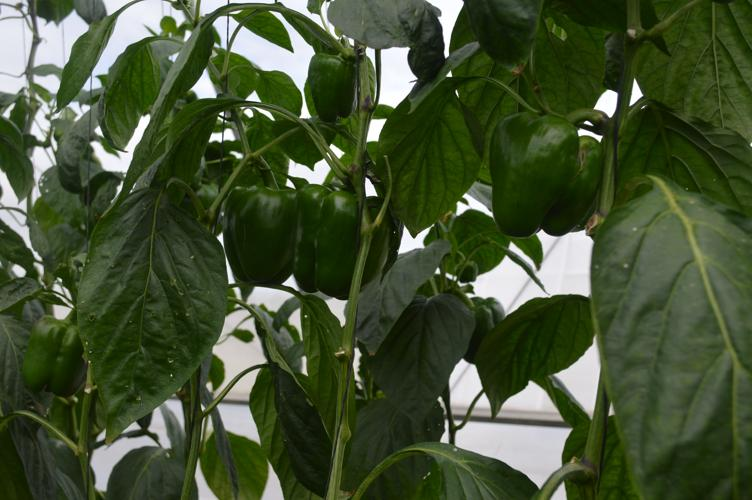BellPepper: (491, 110, 602, 239), (293, 185, 391, 294), (219, 188, 295, 290), (20, 316, 87, 392), (301, 56, 354, 124)
